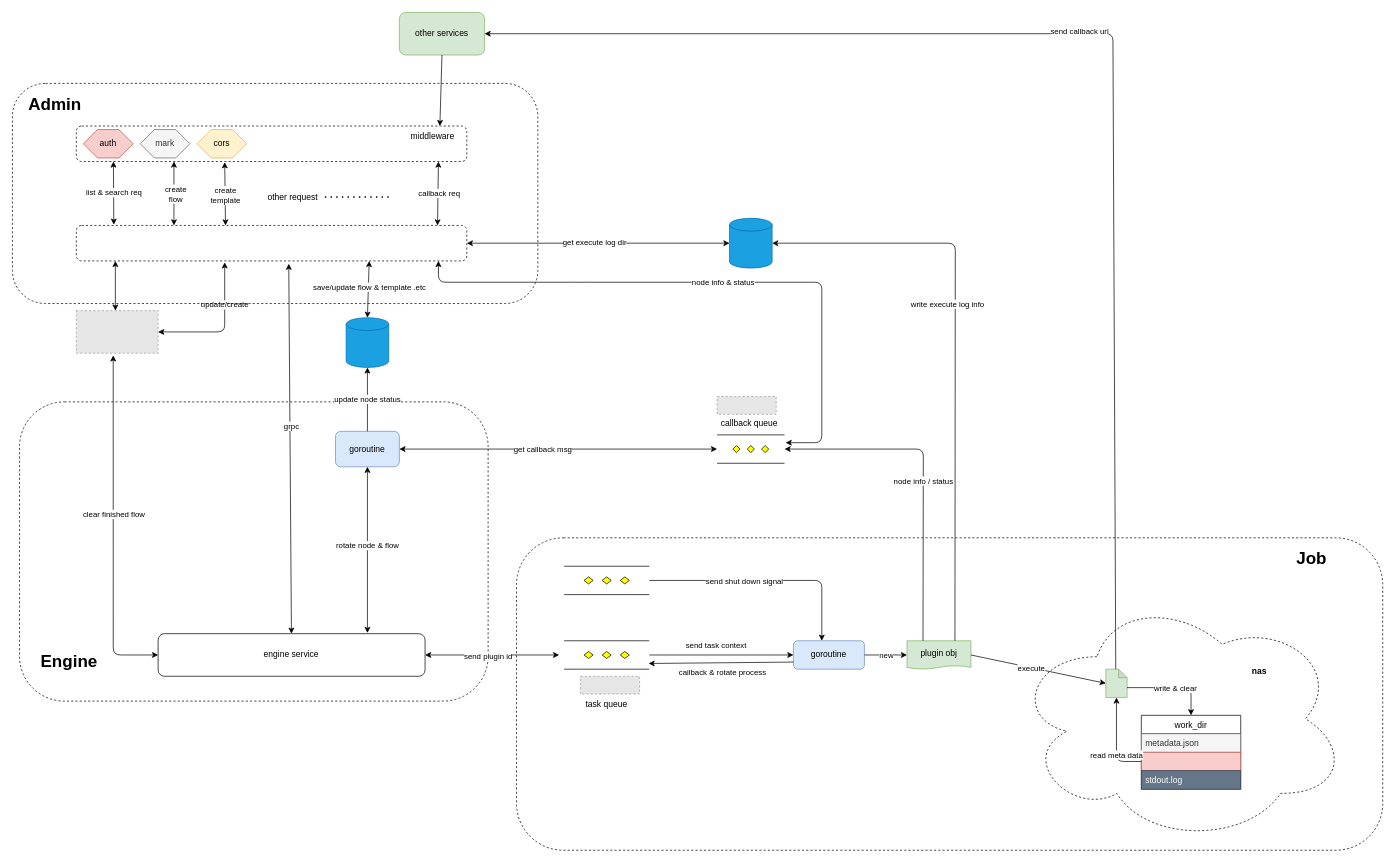
Some shapes in this 1395 by 863 pixel diagram are drawn without their labels. Grey dashed boxes stand in for pictures. Each missing label, with the centre of its shape:
"exec" belongs at (1116,683).
"mongo" belongs at (367,342).
"mysql" belongs at (750,243).
"result.json" belongs at (1191,761).
"service" belongs at (271,243).
"shutdown chan" belongs at (606,580).
